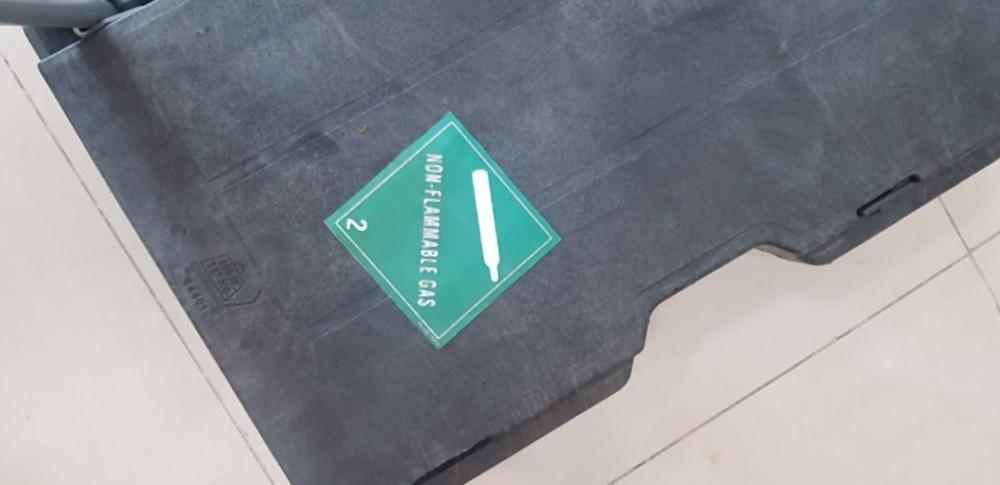non-flammable-gas: (320, 106, 570, 347)
